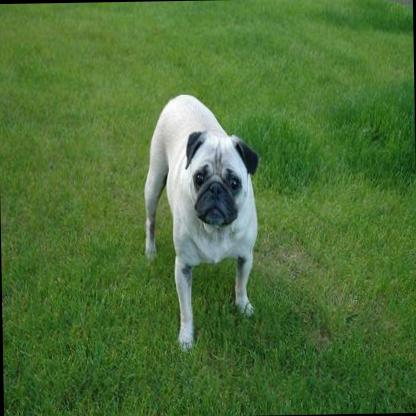pug: (141, 90, 259, 350)
